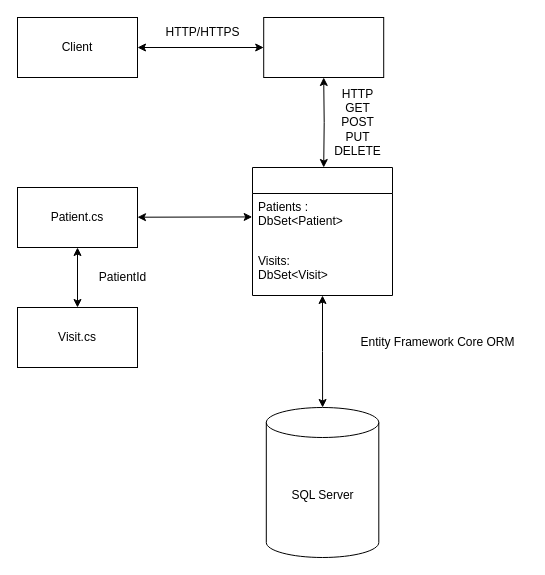
The diagram is 545 pixels wide and 575 high, and some of its shapes have lost their labels. The shapes that lost their labels are listed below. From the top down, each one's box as (x1, y1, x2, y2) in pixels, then its label:
(263, 16, 384, 78): PatientsController.cs
(252, 166, 392, 296): AppDbContext.cs
